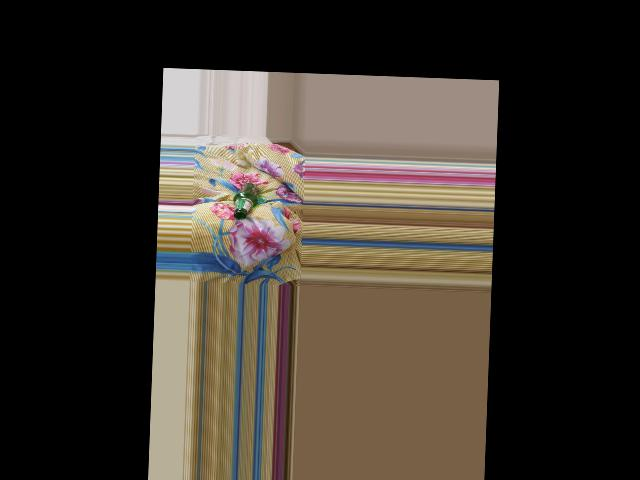beer: (232, 182, 258, 220)
